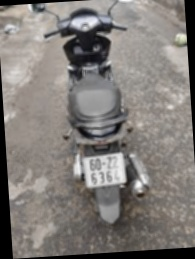Bien-so: (74, 161, 118, 199)
